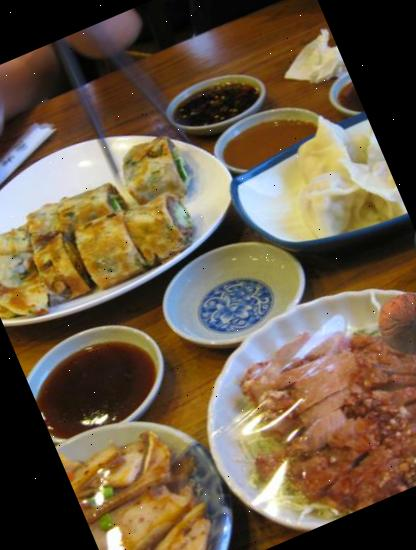Walnut: (367, 281, 416, 365)
